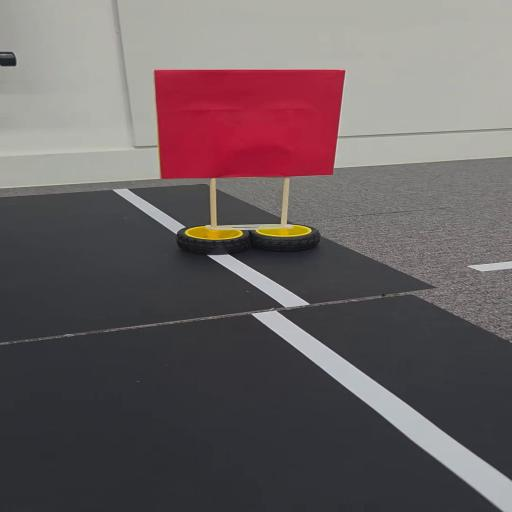Sign_A: (142, 62, 364, 264)
